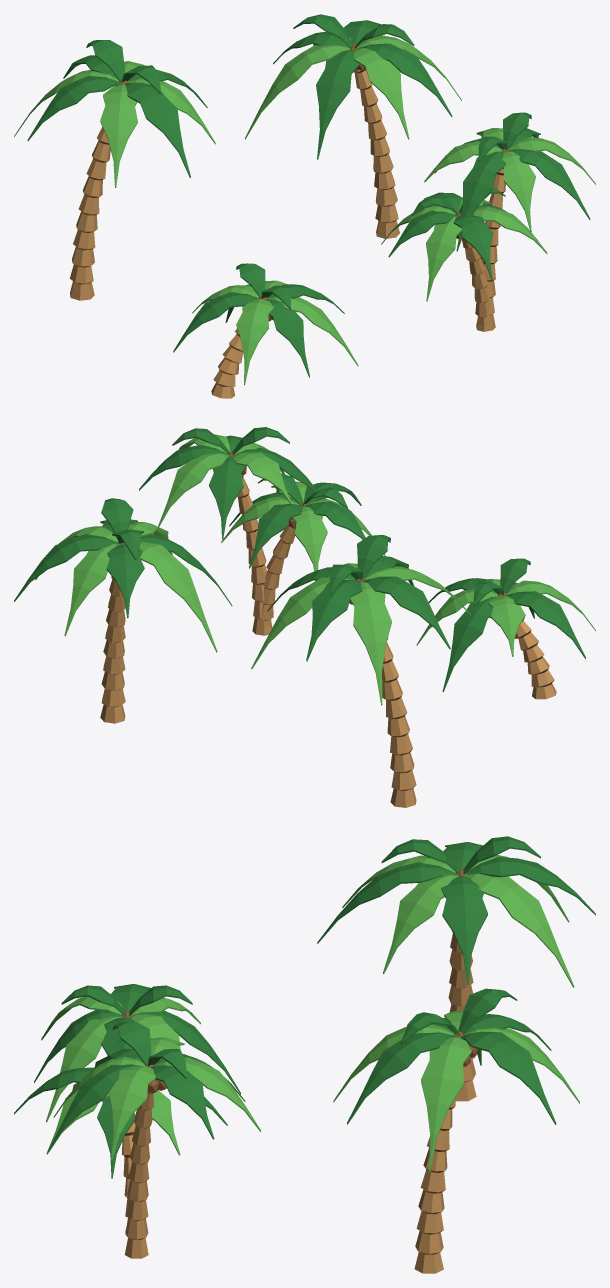
File: palm_tree.glb
3 renders of one model, top to bottom at view 1: azimuth 30°, elevation 25°; view 2: azimuth 150°, elevation 25°; view 3: azimuth 270°, elevation 25°, orthographic. The views are drawn at different scales.
Parts seen in each view (by area): view 1: Palm_Twin, Palm_Tall_B, Palm_Tall_A, Palm_Short_Leaning; view 2: Palm_Twin, Palm_Tall_A, Palm_Tall_B, Palm_Short_Leaning; view 3: Palm_Tall_A, Palm_Twin, Palm_Tall_B, Palm_Short_Leaning.
Part boxes in pixels (<box>): Palm_Twin: <box>381,112,595,331</box>; Palm_Tall_B: <box>245,14,461,238</box>; Palm_Tall_A: <box>14,40,215,300</box>; Palm_Short_Leaning: <box>173,263,358,398</box>; Palm_Twin: <box>139,427,385,635</box>; Palm_Tall_A: <box>251,535,471,807</box>; Palm_Tall_B: <box>14,498,232,723</box>; Palm_Short_Leaning: <box>416,558,595,699</box>; Palm_Tall_A: <box>317,836,595,1101</box>; Palm_Twin: <box>14,1021,260,1258</box>; Palm_Tall_B: <box>333,988,579,1273</box>; Palm_Short_Leaning: <box>34,984,240,1122</box>.
Size of the model in its own units: 61.59 by 32.46 by 61.24.
